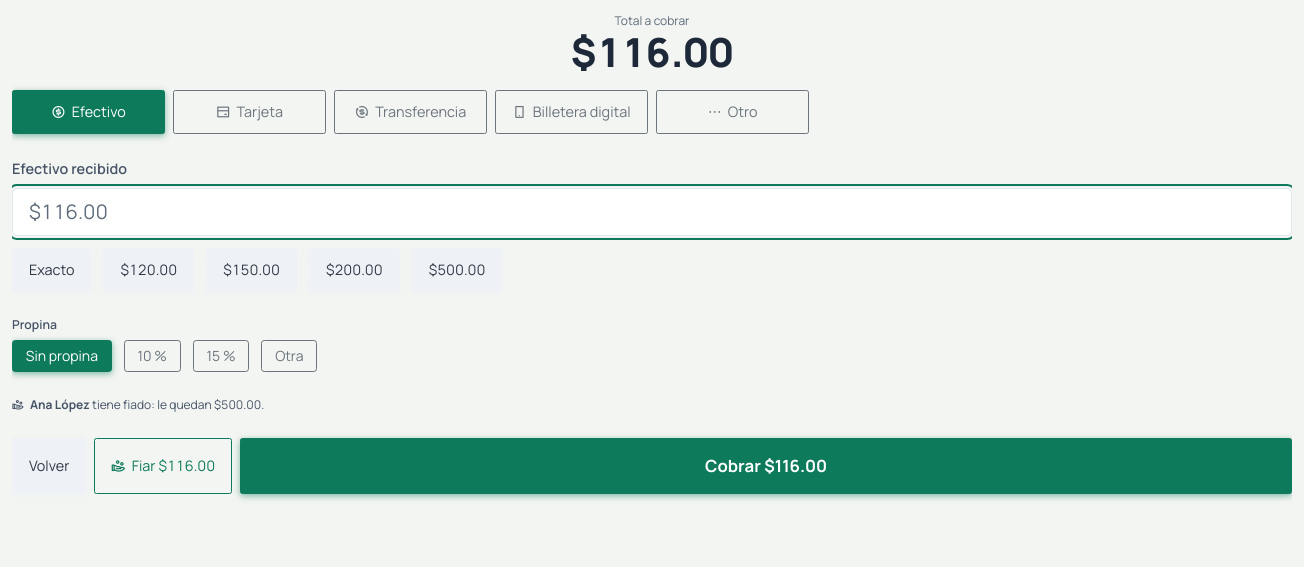
Test: ChargePanel on credit (fiado) › never sells all of it on credit while the cash or the tip typed is not an amount
Type "1OO" into the field labelled "Efectivo recibido" at (652, 212), box x1=12 y1=188 x2=1292 y2=236
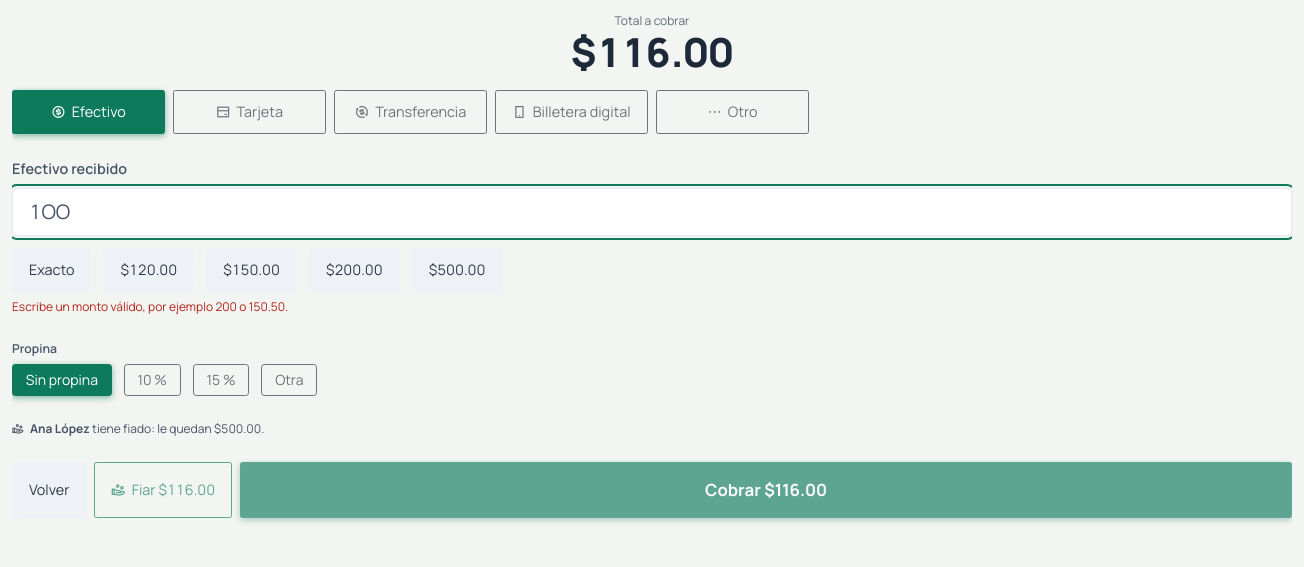
Expected: the button "Fiar $116.00" is disabled, x1=94 y1=462 x2=232 y2=518
Clear the field labelled "Efectivo recibido" at (652, 212), box x1=12 y1=188 x2=1292 y2=236
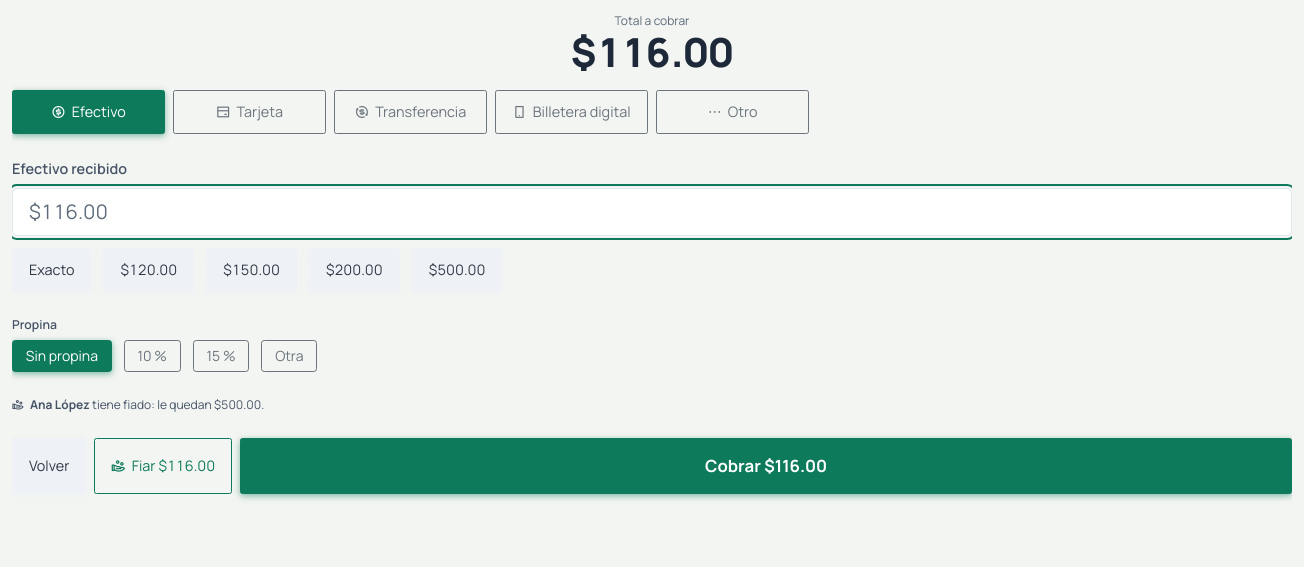
Click the radio button labelled "Otra" at (289, 356), box x1=261 y1=340 x2=317 y2=372
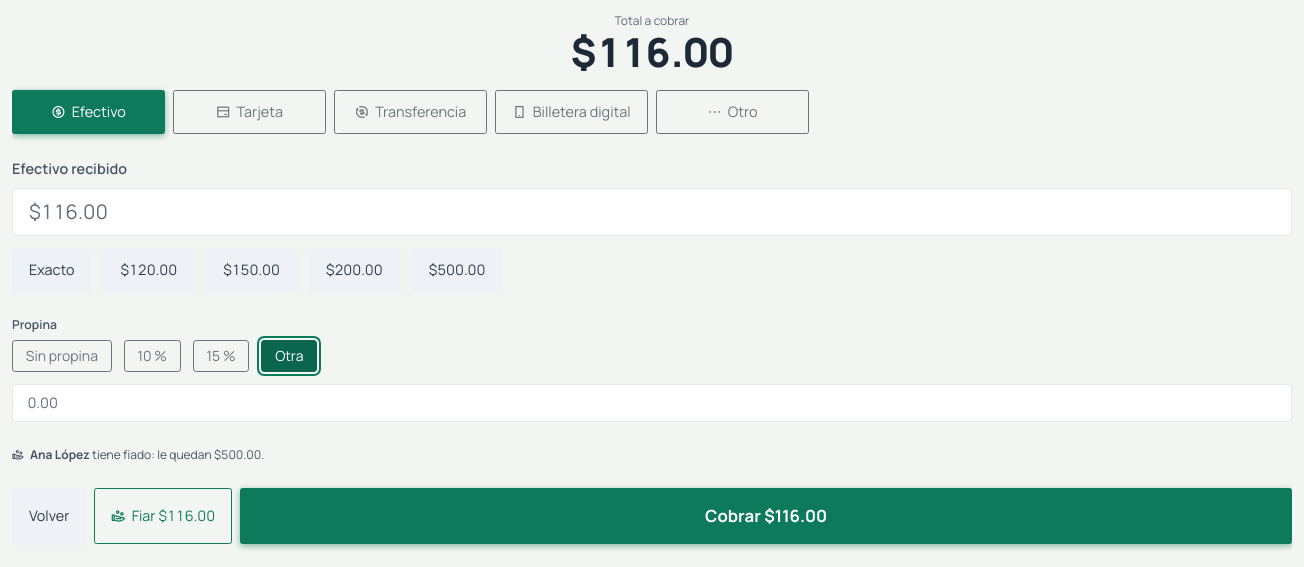
Type "diez" into the field named "Monto de la propina" at (652, 403), box x1=12 y1=384 x2=1292 y2=422
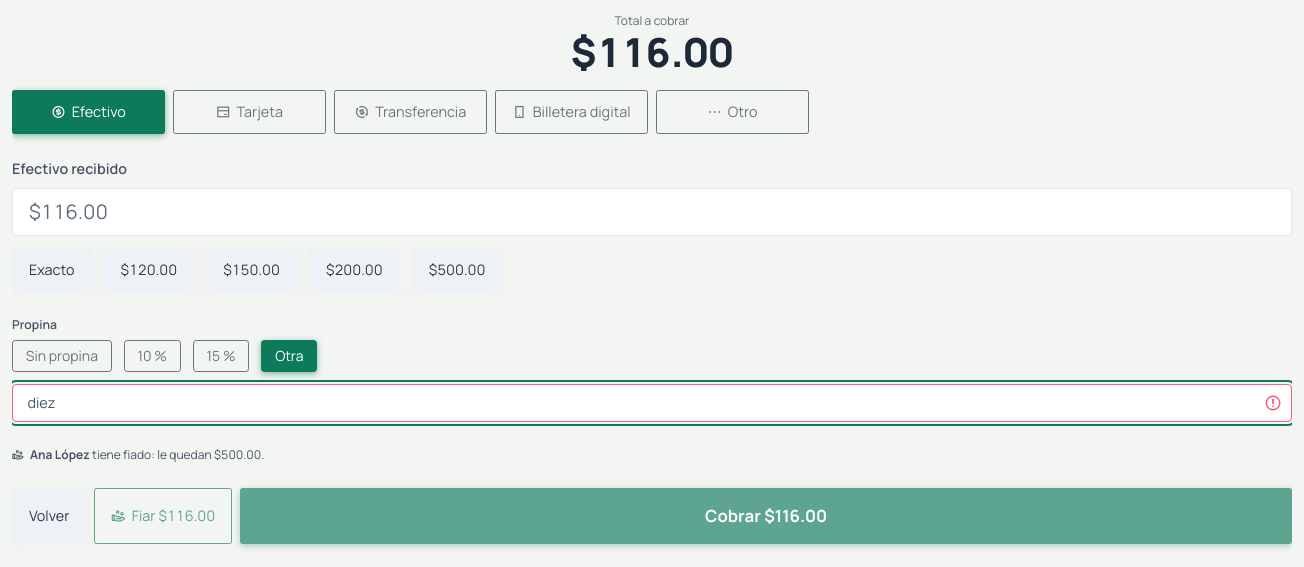
Expected: the button "Fiar $116.00" is disabled, x1=94 y1=488 x2=232 y2=544
